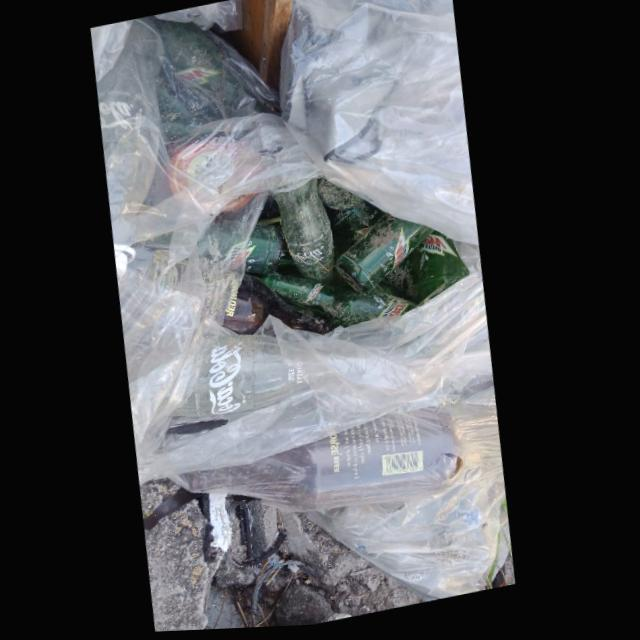glass: (177, 337, 372, 418), (267, 277, 422, 331), (340, 217, 438, 298), (273, 181, 338, 289), (226, 276, 338, 338), (419, 234, 469, 304), (249, 227, 288, 277)
